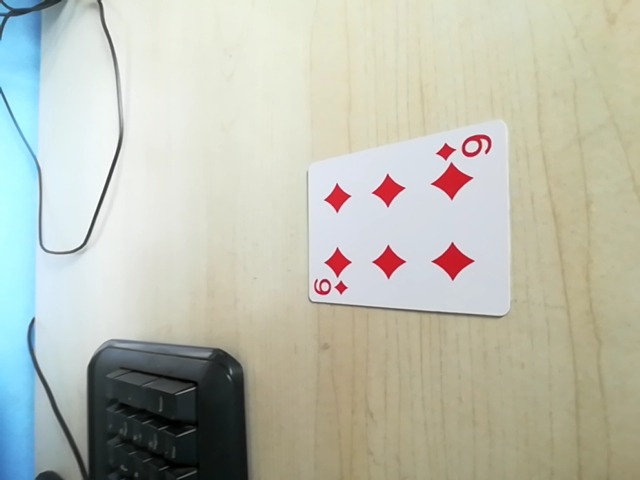fk 6: (433, 127, 495, 163), (308, 275, 353, 301)
